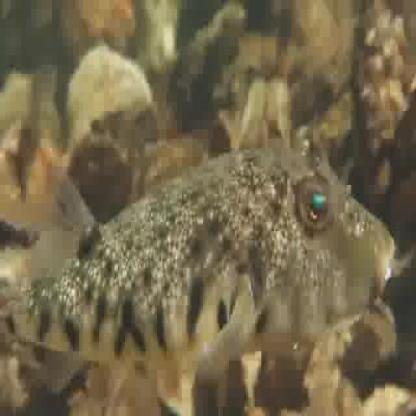Oyster- Indeterminate: (130, 136, 207, 202), (347, 296, 398, 377), (361, 386, 416, 416)
Oyster-Closed: (354, 6, 410, 210), (174, 3, 247, 125), (67, 51, 151, 152), (241, 80, 267, 148), (266, 79, 291, 143)
Oyster-Open: (0, 118, 50, 230)
